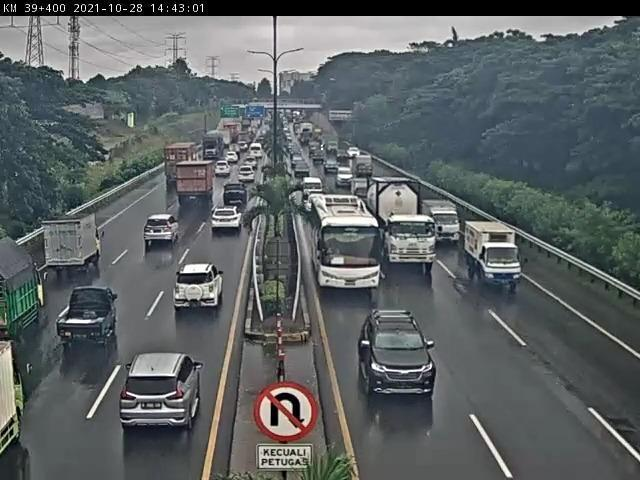bus: (311, 195, 384, 295)
car: (360, 311, 440, 404), (121, 356, 203, 435), (174, 264, 222, 312), (145, 217, 182, 250), (212, 206, 243, 232), (304, 178, 327, 205), (308, 191, 331, 216), (224, 182, 247, 205), (339, 168, 357, 191), (295, 163, 311, 180), (216, 163, 231, 180), (240, 168, 256, 183)
truck: (366, 176, 445, 272), (463, 222, 528, 292), (42, 213, 106, 277), (59, 288, 120, 351), (422, 198, 461, 249), (179, 159, 219, 204), (168, 140, 202, 187)
